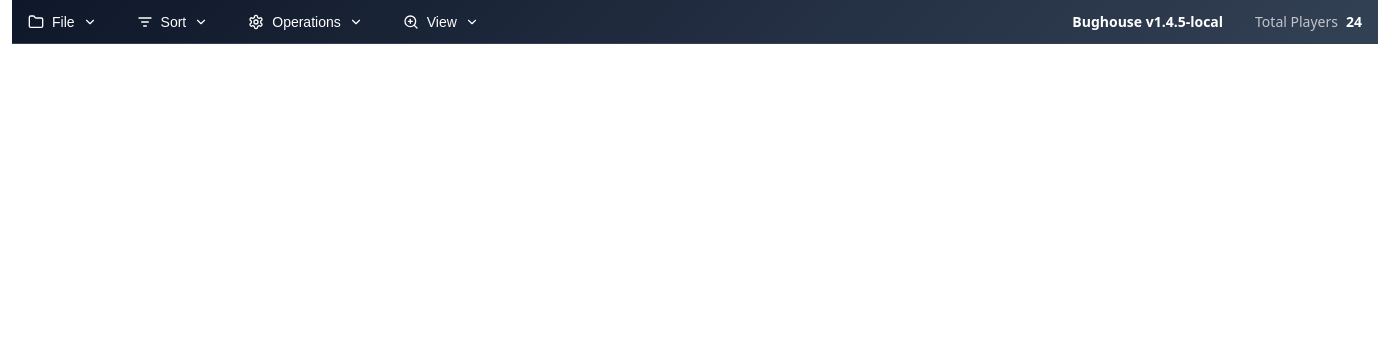
Test case: MenuBar component › non-admin mode (default) › Operations menu items › should have Recalculate_Save button
Click the button "Operations" at (306, 22), box [232,6,379,38]
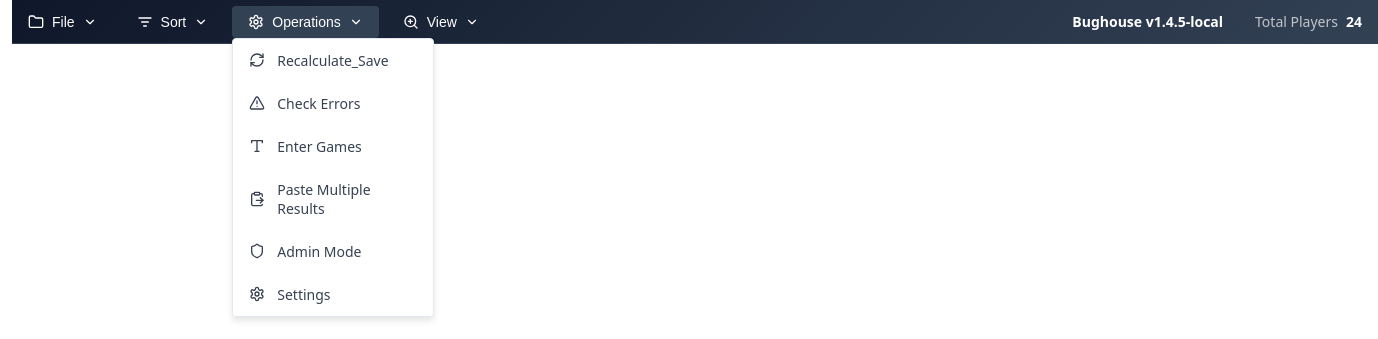
Now the text "Recalculate_Save" is shown, box [277,50,389,70]
